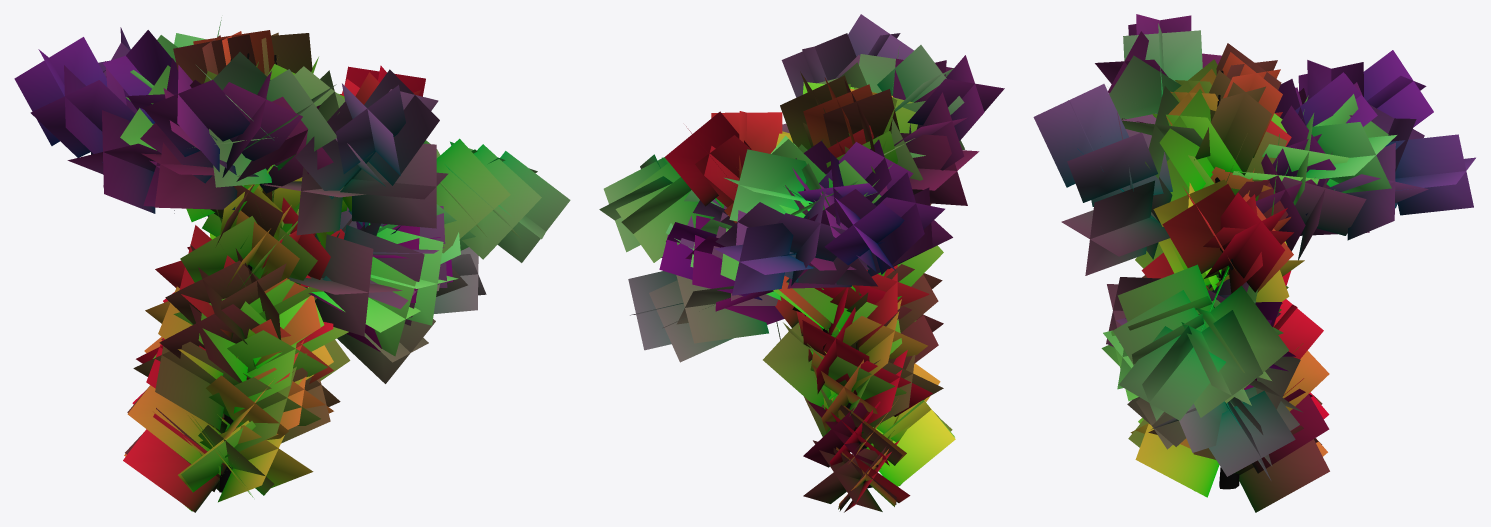
File: M_P3_Tree_14.fbx
3 views of the same model, side by side, from view 1: azimuth 30°, elevation 25°; view 2: azimuth 150°, elevation 25°; view 3: azimuth 270°, elevation 25° (orthographic). The views are drawn at different scales.
Visible parts, largest first — view 1: Tree_14; view 2: Tree_14; view 3: Tree_14.
Part boxes in pixels (x1,y1,x2,y2): Tree_14: [14, 17, 570, 512]; Tree_14: [599, 14, 1004, 512]; Tree_14: [1033, 14, 1475, 512].
Size of the model in its own units: 502 by 542 by 464.
